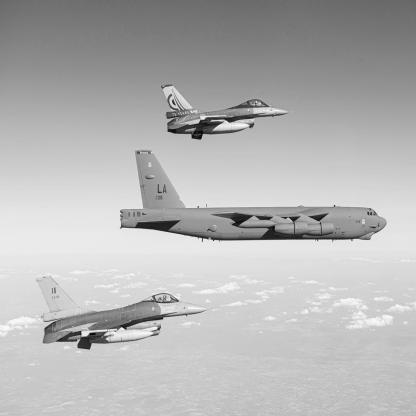B52: (121, 151, 388, 243)
F16: (37, 277, 214, 351), (162, 84, 295, 141)
